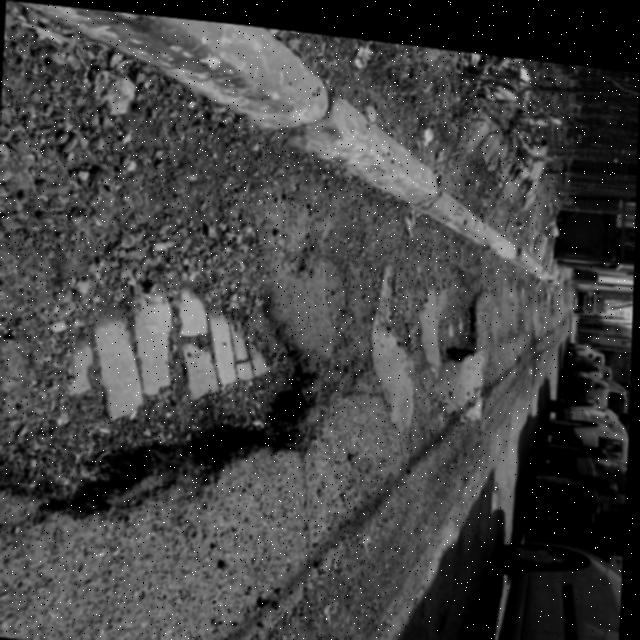Pothole: (0, 291, 338, 549), (430, 278, 494, 362)
